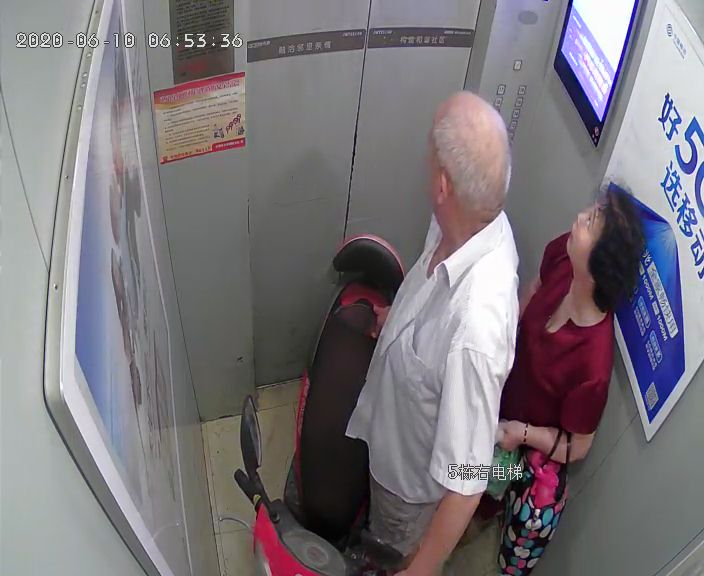Electric-bicycle: (234, 236, 402, 576)
